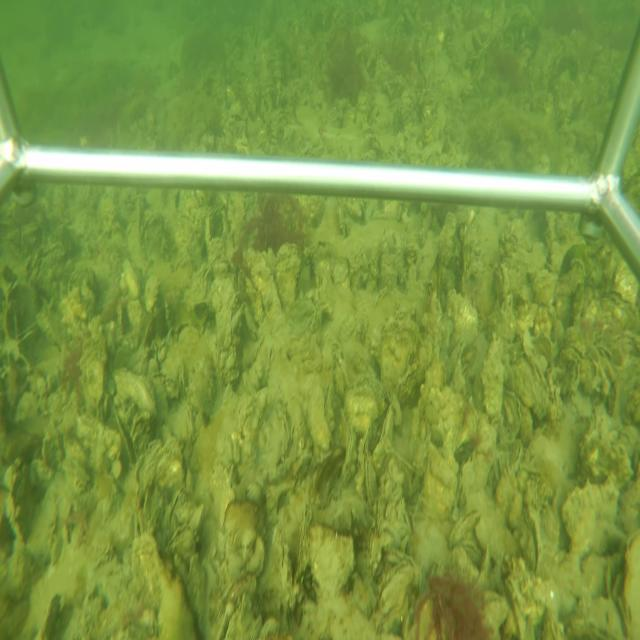Oyster-Closed: (378, 312, 421, 401), (506, 359, 551, 424), (613, 527, 639, 637), (328, 409, 356, 502), (111, 366, 156, 417), (371, 402, 394, 471), (448, 511, 481, 547), (362, 453, 378, 520), (461, 539, 484, 563), (204, 209, 214, 252), (137, 197, 145, 249)
Oyster-Indeterminate: (561, 481, 623, 554), (207, 271, 241, 390), (307, 523, 356, 604), (478, 333, 506, 424), (306, 374, 331, 454), (275, 244, 302, 309)
Oyster-Open: (377, 561, 416, 614), (213, 598, 250, 640), (114, 406, 138, 470), (522, 513, 544, 577)
